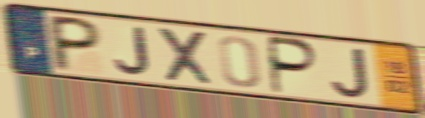0: (217, 34, 263, 90)
J: (329, 46, 372, 101), (112, 26, 153, 78)
P: (49, 13, 104, 74), (268, 34, 321, 97)
X: (154, 24, 217, 88)
